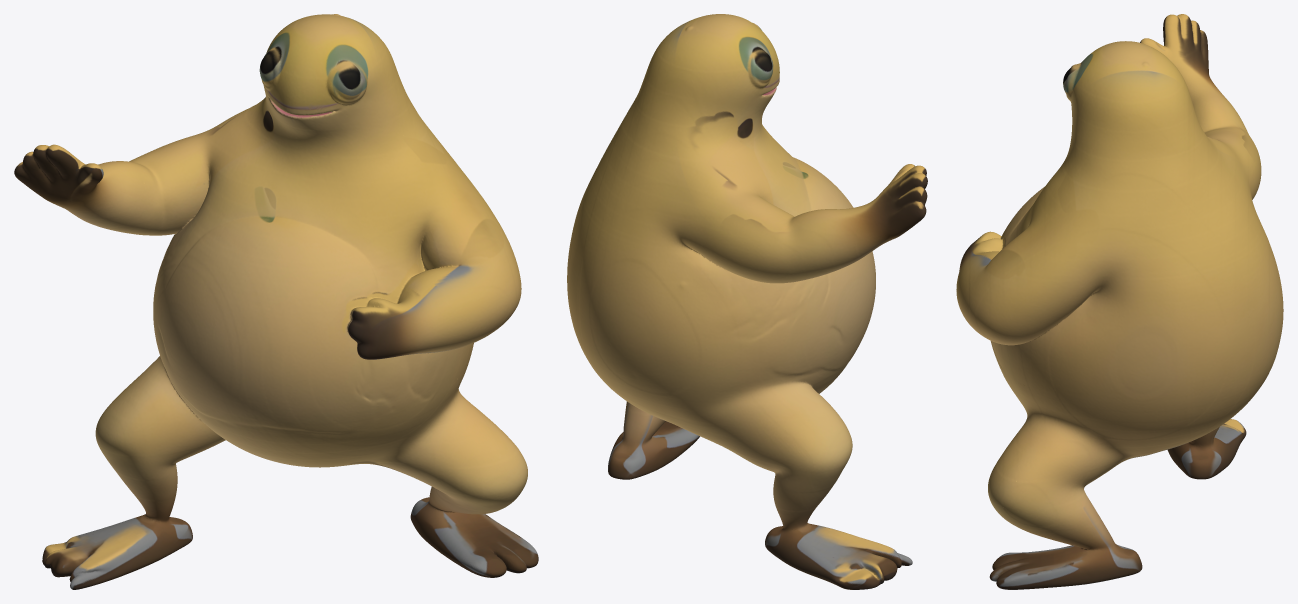
File: tripo_convert_820779b7-0c09-4c76-8cd6-a7156d9b61d3.glb
The picture shows the model from 3 angles, left to right: view 1: azimuth 30°, elevation 25°; view 2: azimuth 150°, elevation 25°; view 3: azimuth 270°, elevation 25°; orthographic projection. The views are drawn at different scales.
Parts seen in each view (by area): view 1: tripo_node_820779b7-0c09-4c76-8cd6-a7156d9b61d3; view 2: tripo_node_820779b7-0c09-4c76-8cd6-a7156d9b61d3; view 3: tripo_node_820779b7-0c09-4c76-8cd6-a7156d9b61d3.
Boxes of the visible parts, x1,y1,x2,y2 form: tripo_node_820779b7-0c09-4c76-8cd6-a7156d9b61d3: [14, 14, 538, 589]; tripo_node_820779b7-0c09-4c76-8cd6-a7156d9b61d3: [567, 14, 927, 589]; tripo_node_820779b7-0c09-4c76-8cd6-a7156d9b61d3: [956, 14, 1283, 589].
Bounding box in the file's own units: 0.8208 × 1 × 0.6186.
1 material, 1 textured.
